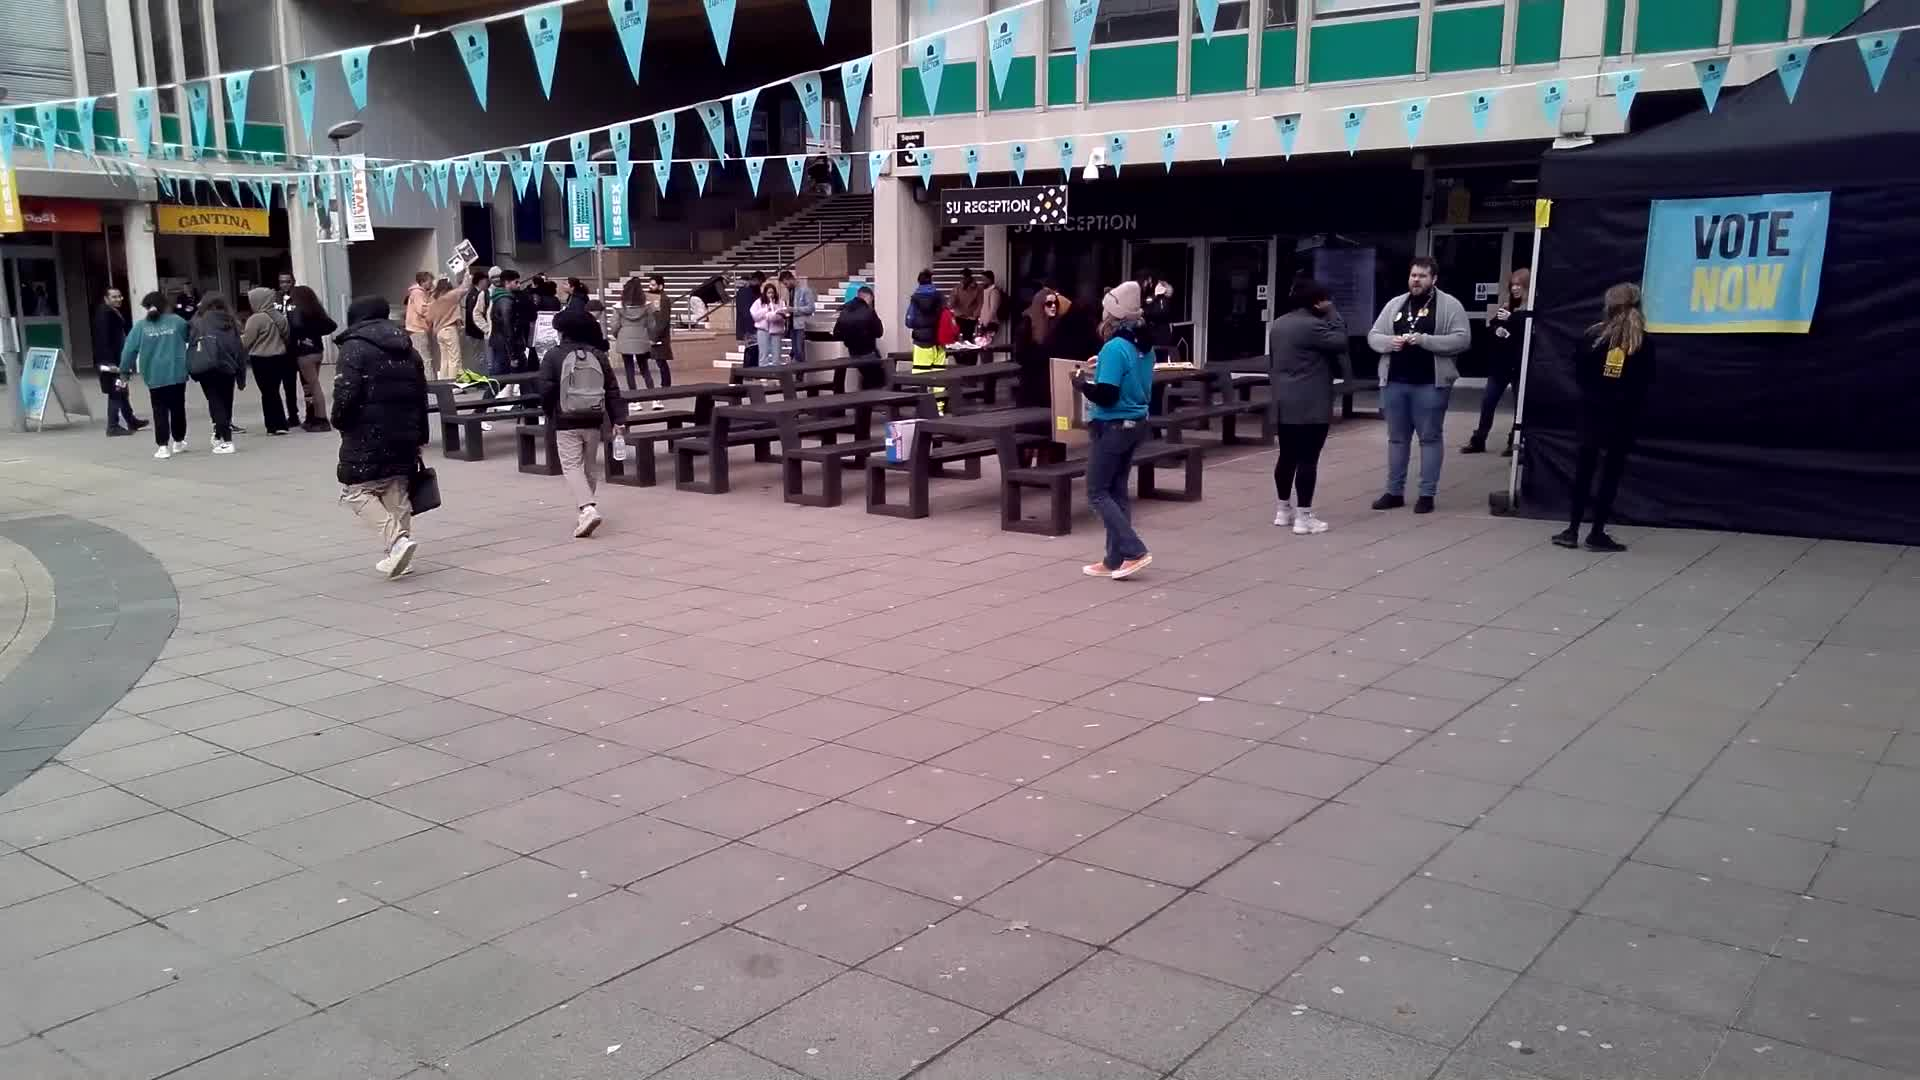Backpack: (364, 343, 428, 453), (552, 346, 609, 421), (182, 327, 230, 379)
Bench: (868, 409, 1210, 543), (689, 395, 858, 506), (428, 371, 544, 477), (733, 351, 898, 398)
Person: (342, 299, 420, 574), (1574, 275, 1642, 558), (1268, 273, 1338, 539), (1088, 277, 1149, 579), (552, 314, 620, 539), (1394, 259, 1441, 517), (189, 287, 256, 441), (90, 279, 144, 431), (136, 291, 184, 451), (284, 281, 332, 435), (248, 286, 289, 437), (1017, 289, 1066, 410)
